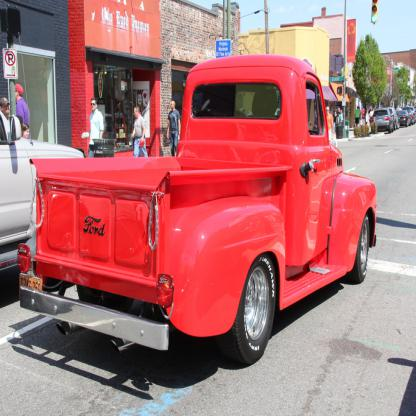Car: (371, 105, 415, 134)
Truck: (17, 54, 377, 363)
